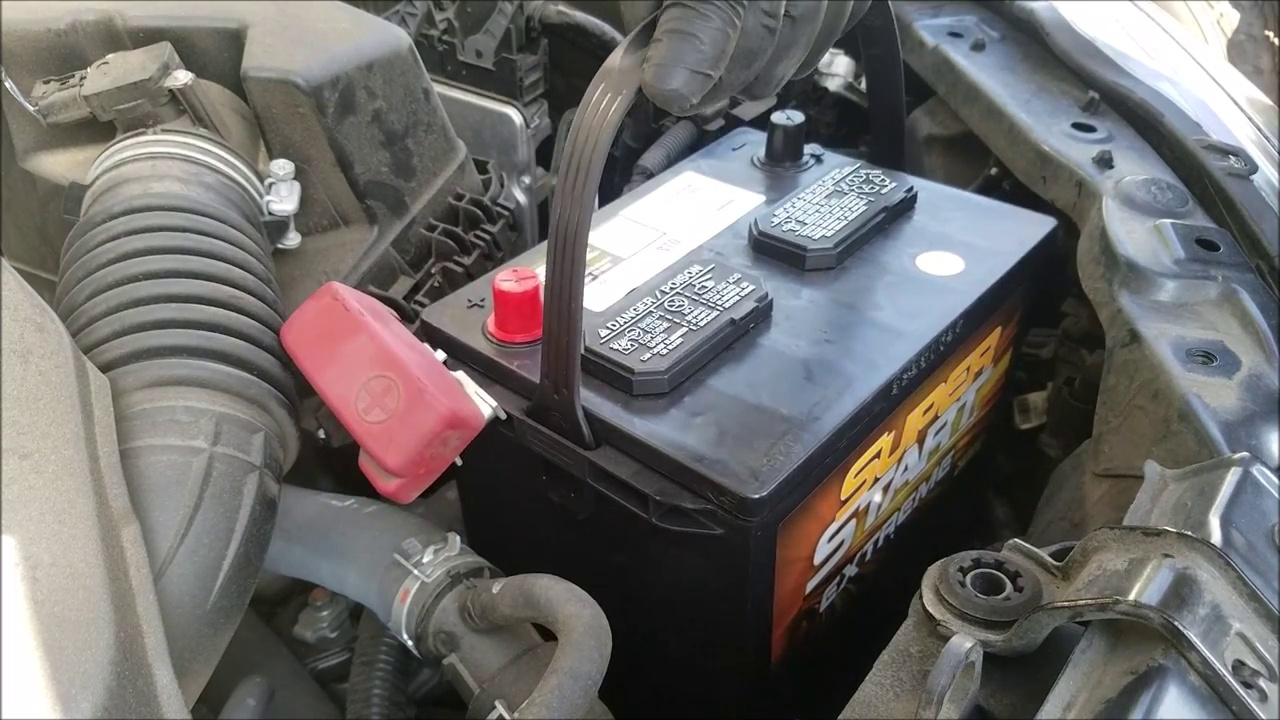battery: (423, 125, 1063, 506)
pos_disconnected: (307, 246, 562, 497)
